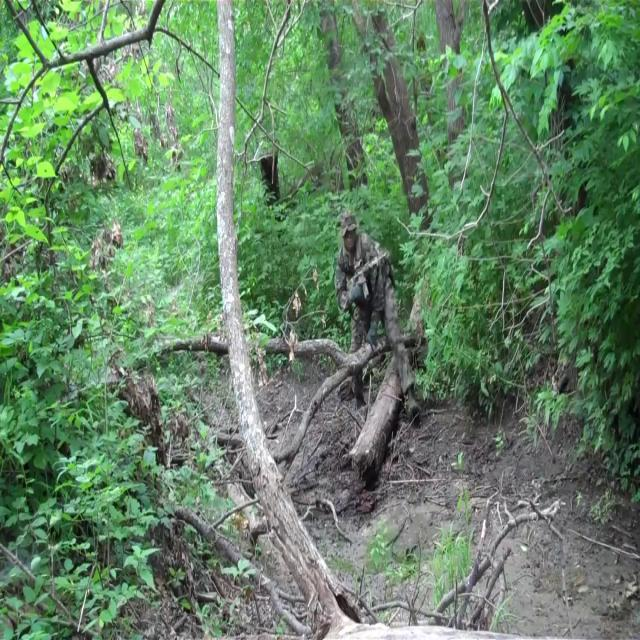MIL_Pax: (336, 211, 420, 422)
